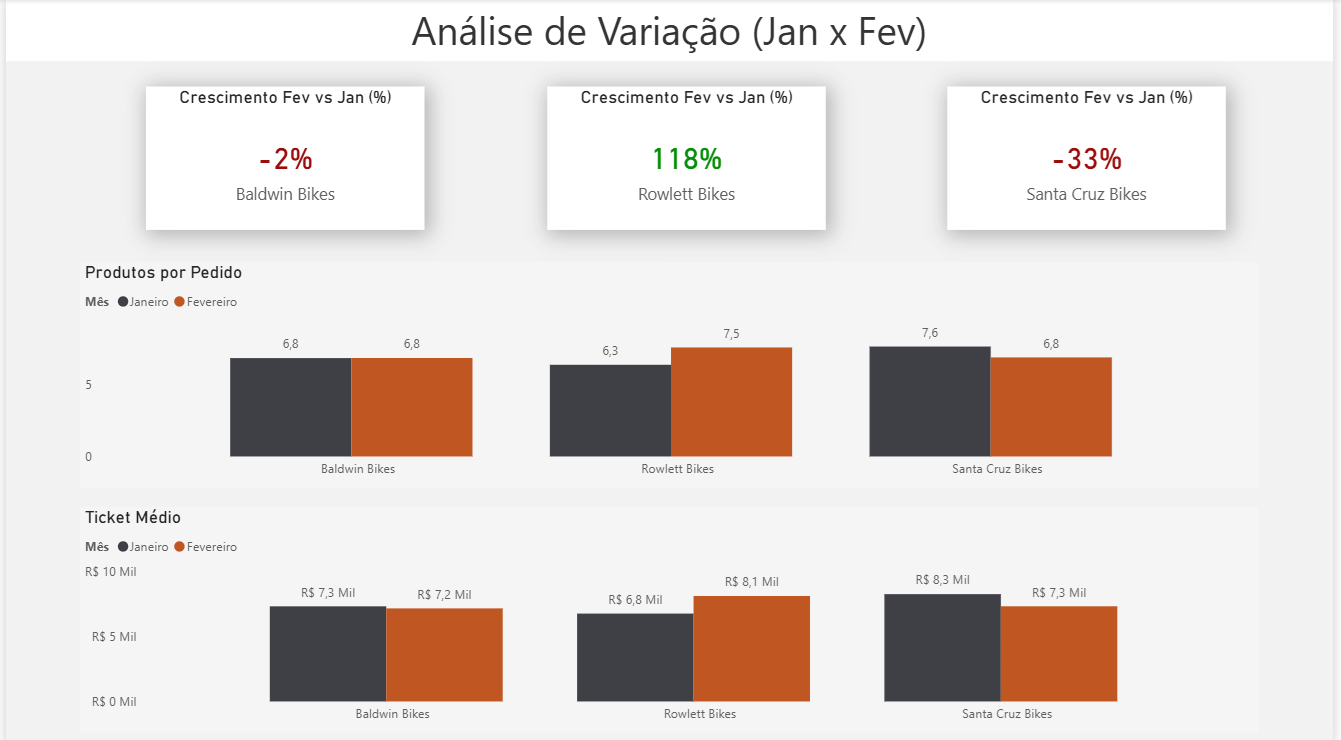

The dashboard page shown, as its layout file describes it:
{"tool":"powerbi","page":{"name":"Análise de Variação","canvas":[1280,720],"ordinal":3},"visuals":[{"type":"clusteredColumnChart","title":"Ticket Médio ","fields":{"Category":["Sales Store.Name"],"Y":["#Medidas.Ticket Médio"],"Series":["Dim_calendario.Nome do Mês"]},"box":[71.2,489.6,1137.7,218.4],"z":0},{"type":"clusteredColumnChart","title":"Produtos por Pedido","fields":{"Category":["Sales Store.Name"],"Series":["Dim_calendario.Nome do Mês"],"Y":["#Medidas.Produtos por Pedido"]},"box":[71.2,253.1,1137.7,218.4],"z":1000},{"type":"card","title":"Crescimento Fev vs Jan (%) ","fields":{"Values":["#Medidas.Crescimento % MoM Baldwin"]},"box":[135.1,84.2,269,138.7],"z":2000},{"type":"card","title":"Crescimento Fev vs Jan (%)","fields":{"Values":["#Medidas.Crescimento % MoM Rowlett"]},"box":[521.8,84.2,269,138.7],"z":3000},{"type":"card","title":"Crescimento Fev vs Jan (%)","fields":{"Values":["#Medidas.Crescimento % MoM SantaCruz"]},"box":[908.5,84.2,269,138.7],"z":4000},{"type":"textbox","box":[330.5,0,618.9,62.7],"z":5000}]}

Visuals, with their boxes in screenshot pixels (x1, y1, x2, y2), scaled from the page's 1280x720 canvas onto the 1341x740 screenshot:
"Ticket Médio " clusteredColumnChart: (x1=75, y1=503, x2=1267, y2=728)
"Produtos por Pedido" clusteredColumnChart: (x1=75, y1=260, x2=1267, y2=485)
"Crescimento Fev vs Jan (%) " card: (x1=142, y1=87, x2=423, y2=229)
"Crescimento Fev vs Jan (%)" card: (x1=547, y1=87, x2=828, y2=229)
"Crescimento Fev vs Jan (%)" card: (x1=952, y1=87, x2=1234, y2=229)
textbox: (x1=346, y1=0, x2=995, y2=64)
